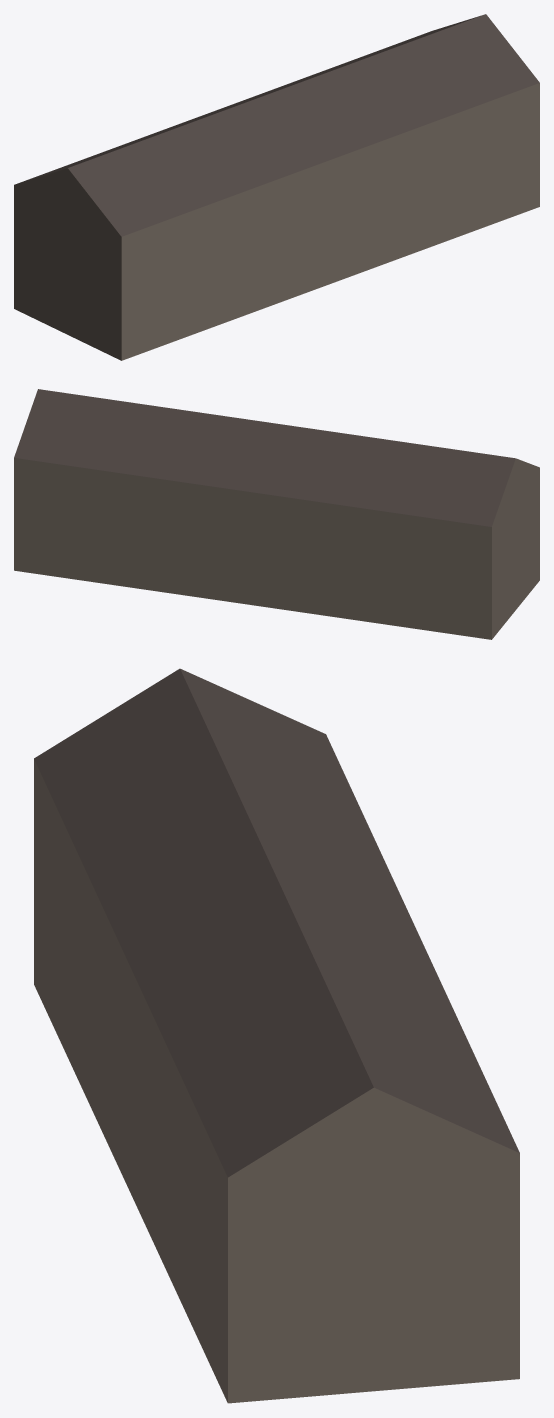
The picture shows the model from 3 angles, top to bottom: view 1: azimuth 30°, elevation 25°; view 2: azimuth 150°, elevation 25°; view 3: azimuth 270°, elevation 25°; orthographic projection. The views are drawn at different scales.
Visible parts, largest first — view 1: HP-w1201321557; view 2: HP-w1201321557; view 3: HP-w1201321557.
Part boxes in pixels (x1,y1,x2,y2): HP-w1201321557: (14,14,539,360); HP-w1201321557: (14,389,539,639); HP-w1201321557: (34,668,519,1403).
Size of the model in its own units: 37.9 by 12.11 by 17.56.
